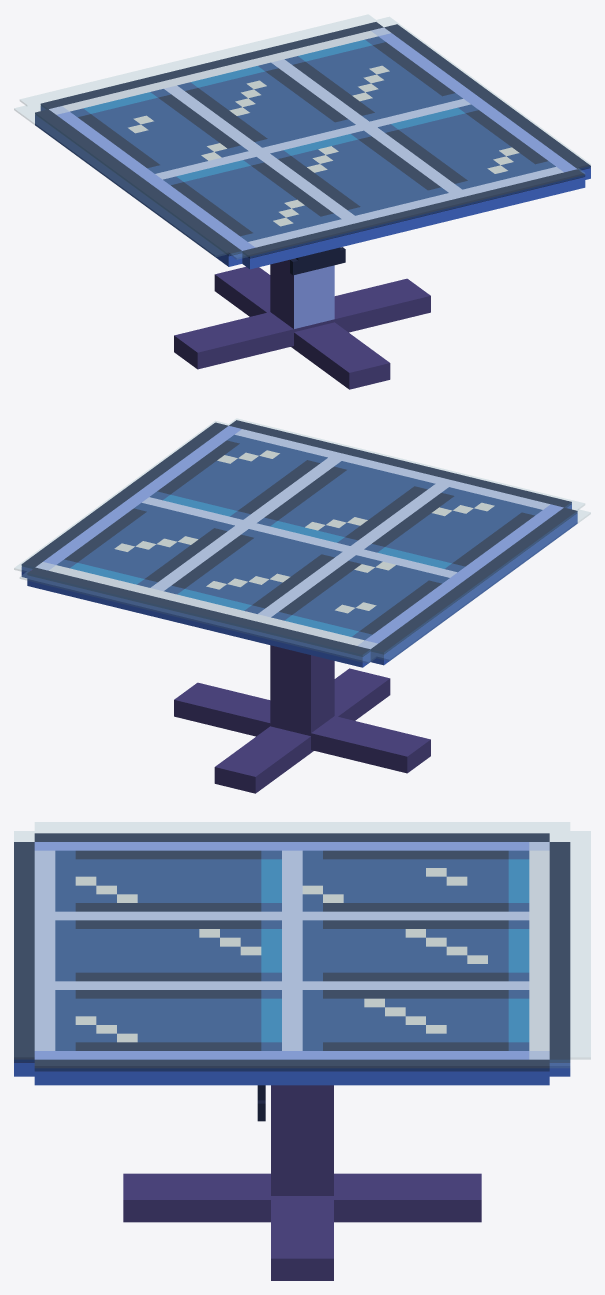
File: solar_panel.glb
3 views of the same model, one above another, from view 1: azimuth 30°, elevation 25°; view 2: azimuth 150°, elevation 25°; view 3: azimuth 270°, elevation 25° (orthographic). The views are drawn at different scales.
Parts seen in each view (by area): view 1: solar_panel_Glass_Cover, solar_panel_Photovoltaic_Cells, solar_panel_Pedestal_Assembly, solar_panel_Panel_Backplate, solar_panel_Power_Cable; view 2: solar_panel_Glass_Cover, solar_panel_Photovoltaic_Cells, solar_panel_Pedestal_Assembly, solar_panel_Panel_Backplate; view 3: solar_panel_Glass_Cover, solar_panel_Photovoltaic_Cells, solar_panel_Pedestal_Assembly, solar_panel_Panel_Backplate.
Part boxes in pixels (left/top/right/bottom): solar_panel_Glass_Cover: left=14, top=14, right=590, bottom=259; solar_panel_Photovoltaic_Cells: left=35, top=22, right=590, bottom=258; solar_panel_Pedestal_Assembly: left=174, top=259, right=430, bottom=389; solar_panel_Panel_Backplate: left=35, top=106, right=590, bottom=269; solar_panel_Power_Cable: left=290, top=247, right=345, bottom=275; solar_panel_Glass_Cover: left=14, top=418, right=590, bottom=663; solar_panel_Photovoltaic_Cells: left=21, top=420, right=577, bottom=656; solar_panel_Pedestal_Assembly: left=174, top=645, right=430, bottom=793; solar_panel_Panel_Backplate: left=21, top=504, right=577, bottom=667; solar_panel_Glass_Cover: left=14, top=822, right=590, bottom=1067; solar_panel_Photovoltaic_Cells: left=14, top=833, right=570, bottom=1070; solar_panel_Pedestal_Assembly: left=123, top=1085, right=481, bottom=1280; solar_panel_Panel_Backplate: left=14, top=1062, right=570, bottom=1085.
Bounding box in the file's own units: 1.29 × 0.653 × 1.29.
Materials: 4 (3 with a texture image).
